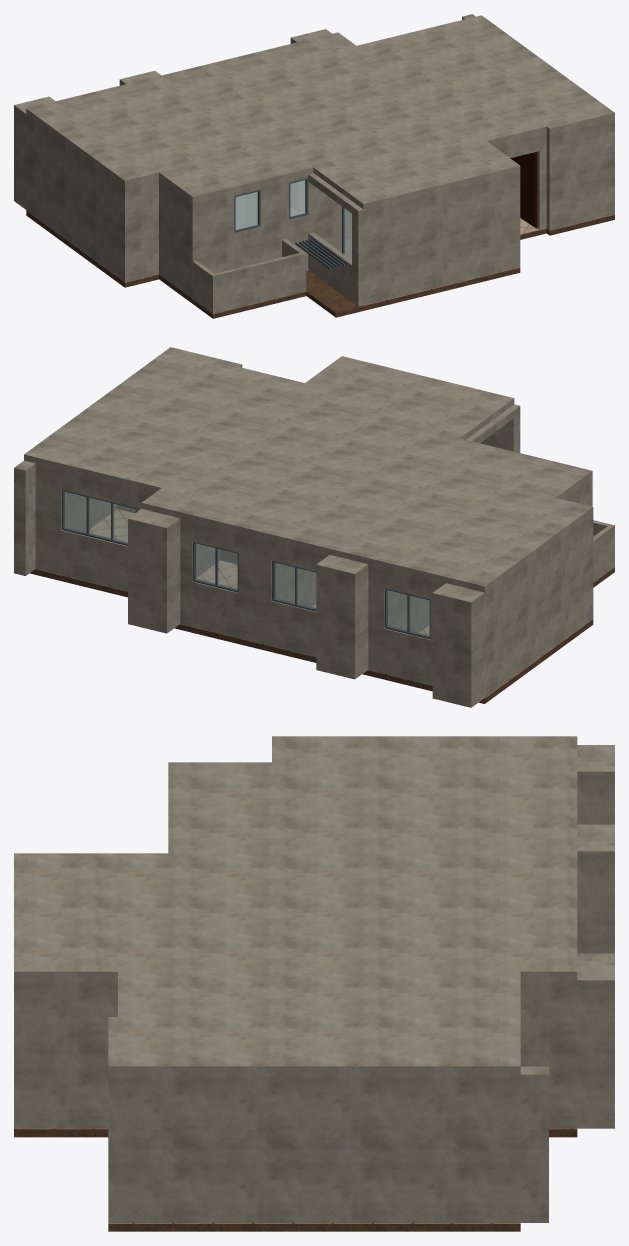
File: Apartment.gltf
The picture shows the model from 3 angles, top to bottom: view 1: azimuth 30°, elevation 25°; view 2: azimuth 150°, elevation 25°; view 3: azimuth 270°, elevation 25°; orthographic projection. The views are drawn at different scales.
Visible parts, largest first — view 1: Floor slab | finished floor datum Z=0; view 2: Floor slab | finished floor datum Z=0; view 3: Floor slab | finished floor datum Z=0.
Part boxes in pixels (left/top/right/bottom): Floor slab | finished floor datum Z=0: left=14, top=14, right=614, bottom=318; Floor slab | finished floor datum Z=0: left=14, top=347, right=614, bottom=707; Floor slab | finished floor datum Z=0: left=14, top=736, right=614, bottom=1231.
Bounding box in the file's own units: 12.4 × 2.9 × 9.55.
12 materials, 8 textured.
